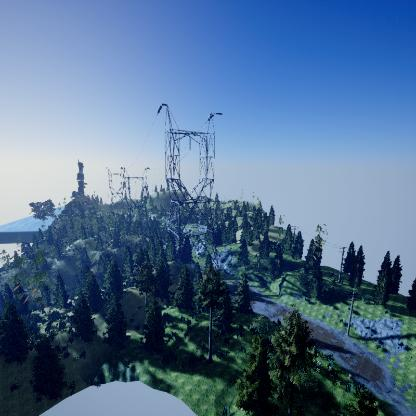tower: (156, 103, 223, 271), (120, 166, 151, 216), (106, 164, 130, 211)
